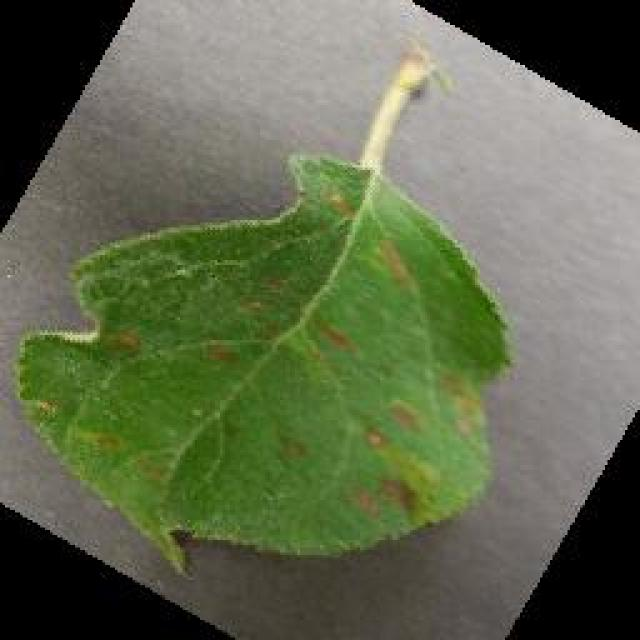apple rust disease: (10, 40, 515, 578)
